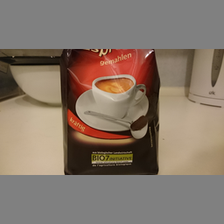coffee: (59, 49, 161, 175)
